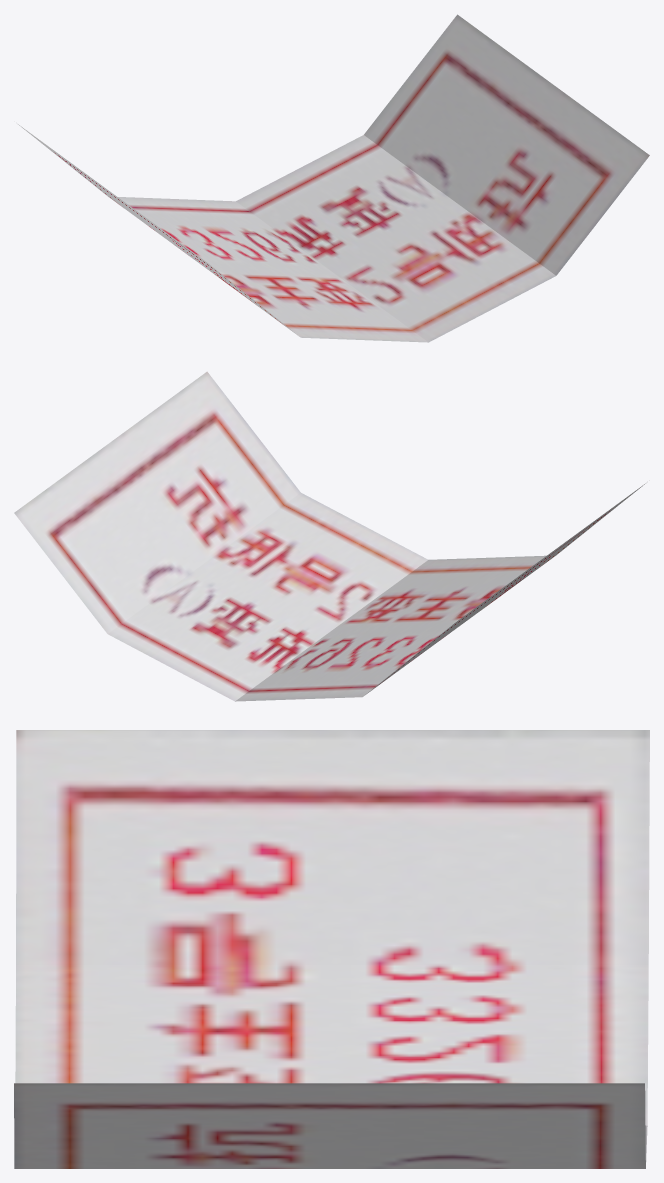
The model's file is mp-3649-geode.glb.
3 views of the same model, one above another, from view 1: azimuth 30°, elevation 25°; view 2: azimuth 150°, elevation 25°; view 3: azimuth 270°, elevation 25° (orthographic). The views are drawn at different scales.
Visible parts, largest first — view 1: Node; view 2: Node; view 3: Node.
Boxes of the visible parts, left/top/right/bottom form: Node: left=18, top=14, right=649, bottom=342; Node: left=14, top=371, right=645, bottom=701; Node: left=14, top=730, right=649, bottom=1168.
Size of the model in its own units: 0.2442 by 0.0705 by 0.1858.
1 material, 1 textured.
